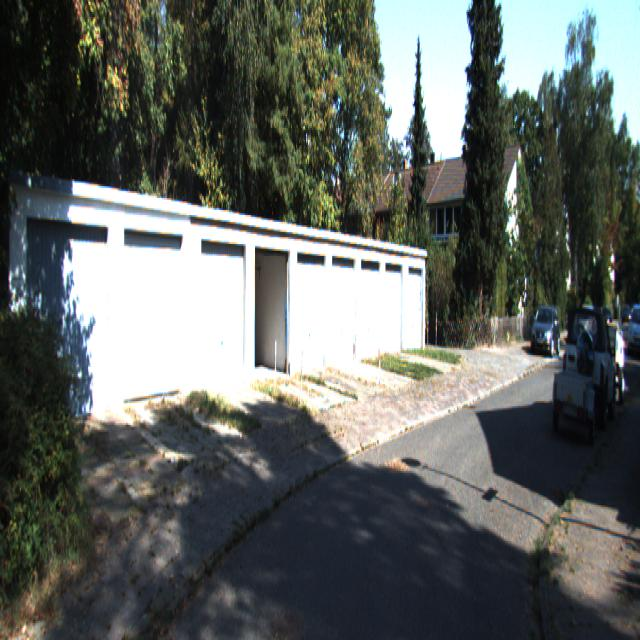Car: (564, 301, 618, 426), (553, 364, 594, 438), (530, 304, 562, 356)
